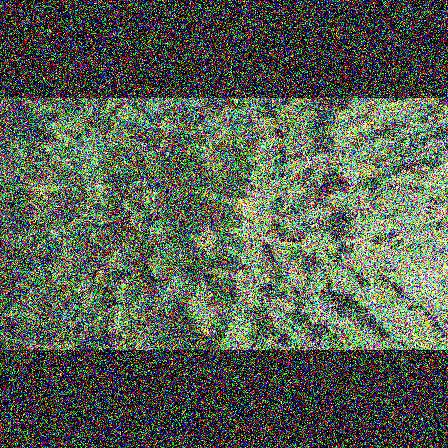Sick: (105, 313, 130, 336), (77, 292, 100, 314), (25, 205, 49, 226)
